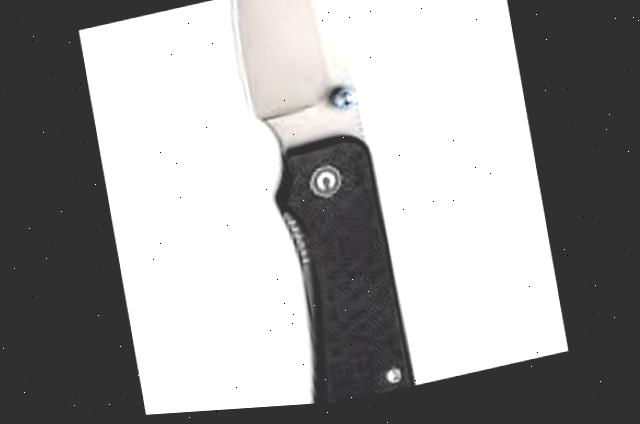pocket-knife: (190, 0, 432, 414)
